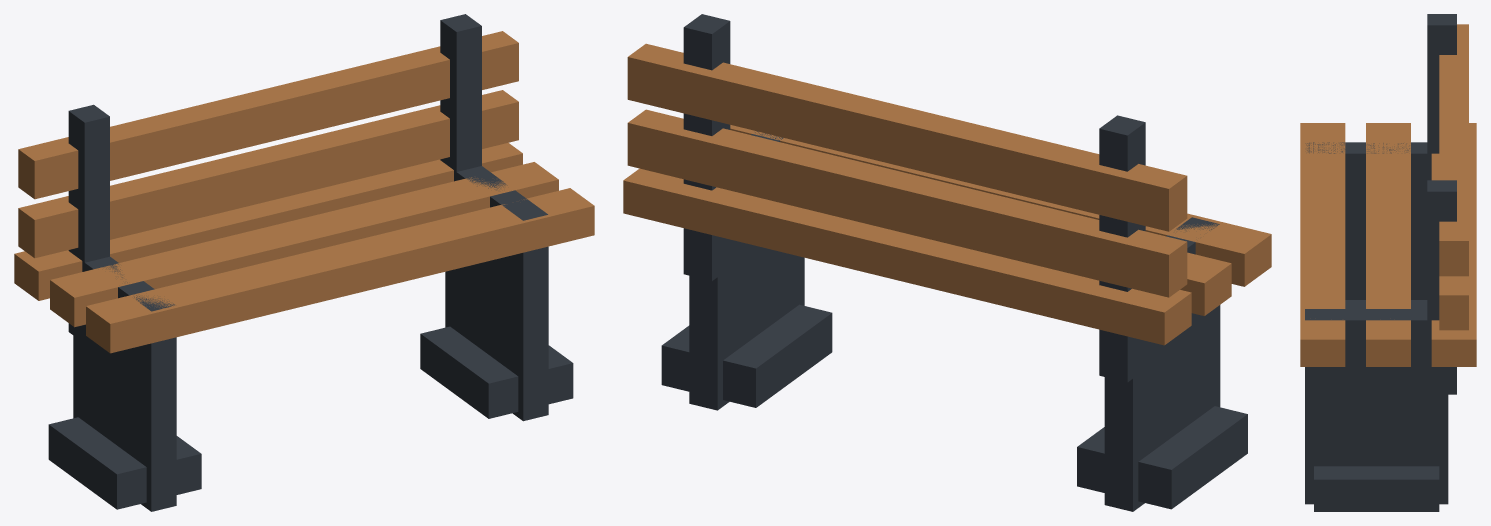
File: bench_park.glb
3 renders of one model, left to right at view 1: azimuth 30°, elevation 25°; view 2: azimuth 150°, elevation 25°; view 3: azimuth 270°, elevation 25°, orthographic. The views are drawn at different scales.
Visible parts, largest first — view 1: Prop_Bench_Park_Bench, Prop_Bench_Park_Metal; view 2: Prop_Bench_Park_Bench, Prop_Bench_Park_Metal; view 3: Prop_Bench_Park_Metal, Prop_Bench_Park_Bench.
Boxes of the visible parts, x1,y1,x2,y2 form: Prop_Bench_Park_Bench: [14, 31, 594, 353]; Prop_Bench_Park_Metal: [48, 14, 573, 511]; Prop_Bench_Park_Bench: [623, 43, 1271, 345]; Prop_Bench_Park_Metal: [661, 14, 1247, 511]; Prop_Bench_Park_Metal: [1305, 14, 1456, 511]; Prop_Bench_Park_Bench: [1300, 24, 1476, 366].
Bounding box in the file's own units: 1.72 × 1.15 × 0.59.
